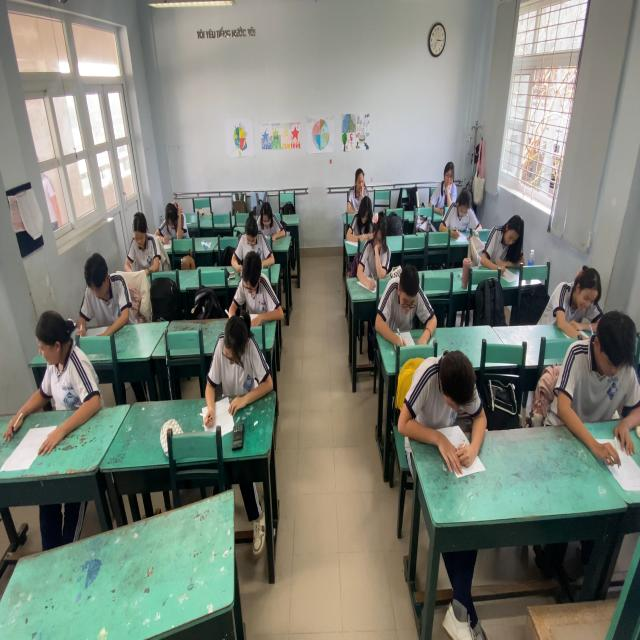cheating: (21, 306, 99, 431)
not_cheating: (562, 311, 638, 455), (406, 346, 475, 460), (199, 322, 278, 413), (67, 254, 133, 336), (542, 255, 600, 330), (382, 266, 428, 356), (227, 254, 277, 324), (482, 206, 524, 276), (115, 216, 159, 278), (234, 209, 274, 269), (357, 222, 391, 288), (448, 173, 478, 236), (152, 197, 193, 243), (349, 190, 382, 235), (250, 189, 284, 231), (431, 154, 456, 208), (340, 159, 371, 201)
